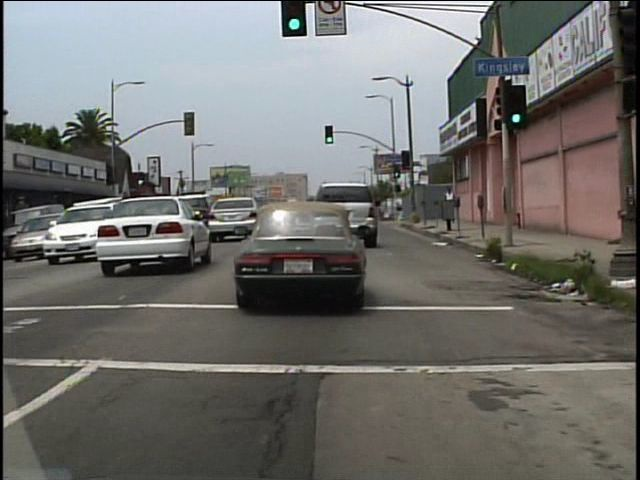person: (443, 185, 458, 223)
